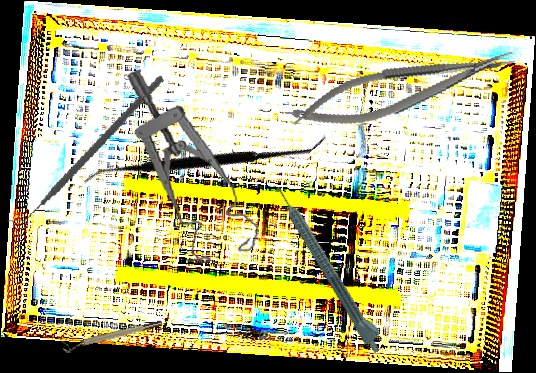Chopper: (5, 49, 165, 249)
Fixation Ring: (60, 318, 165, 355)
Handpiece: (272, 179, 390, 356)
Needle Holder: (286, 39, 521, 140)
Spatula Surgical: (82, 44, 328, 275)
Speculum: (125, 59, 262, 270)
